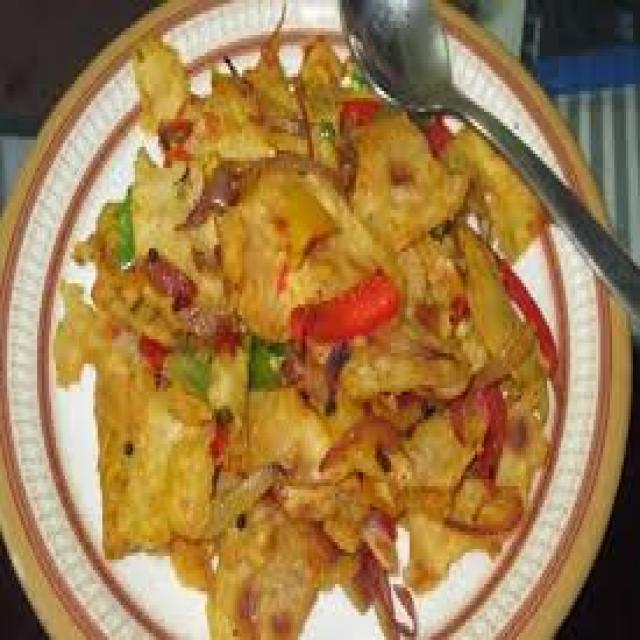organic waste: (44, 0, 552, 637), (93, 336, 210, 549), (70, 185, 198, 354), (440, 115, 561, 284), (116, 143, 233, 315), (198, 14, 314, 178), (205, 496, 319, 636), (394, 462, 522, 584), (477, 314, 552, 503), (379, 402, 494, 507), (307, 535, 410, 637), (135, 35, 207, 168), (331, 88, 456, 164), (230, 374, 324, 469), (291, 21, 361, 147), (291, 262, 393, 340), (494, 248, 552, 382), (49, 280, 121, 378), (314, 406, 410, 479), (351, 451, 419, 525), (170, 535, 216, 598), (180, 161, 238, 210), (419, 112, 456, 161)
